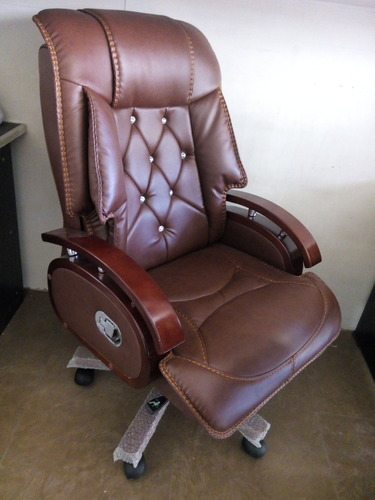chairs: (31, 8, 345, 486)
